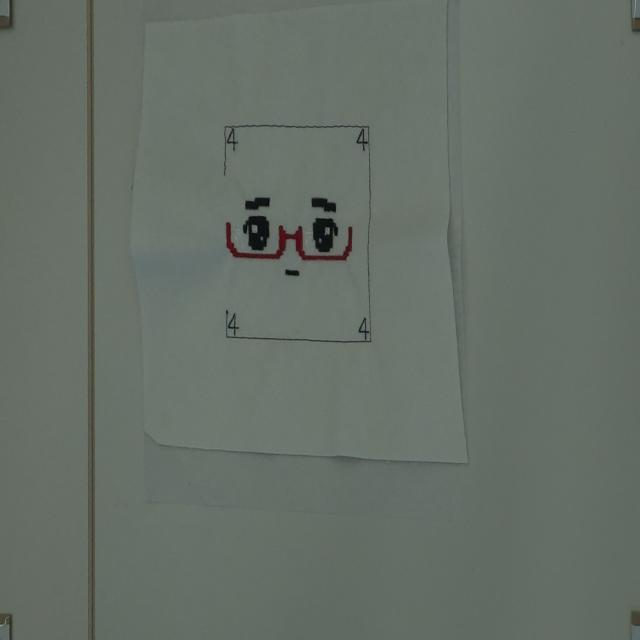4 -: (354, 127, 370, 151), (356, 315, 370, 341), (226, 127, 238, 149), (230, 310, 238, 340)
